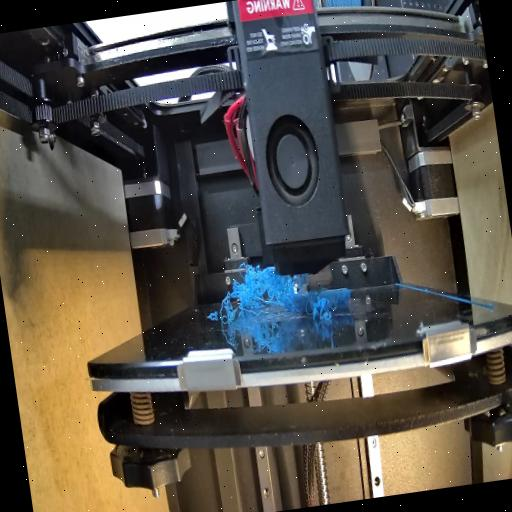spaghetti: (229, 262, 307, 310), (306, 286, 343, 324), (219, 296, 234, 324)
